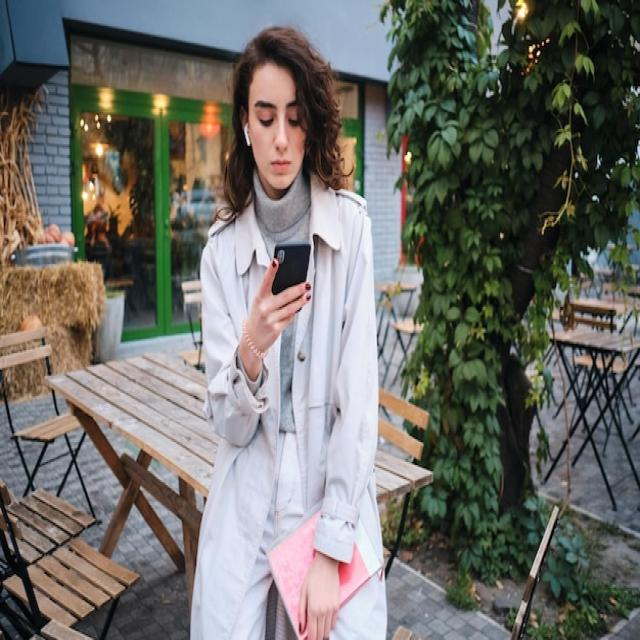airpods: (244, 121, 252, 149)
